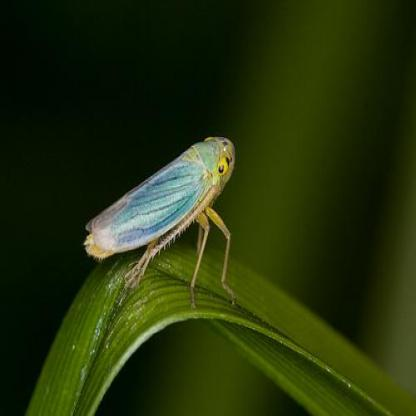Green-Leafhopper: (81, 129, 240, 323)
